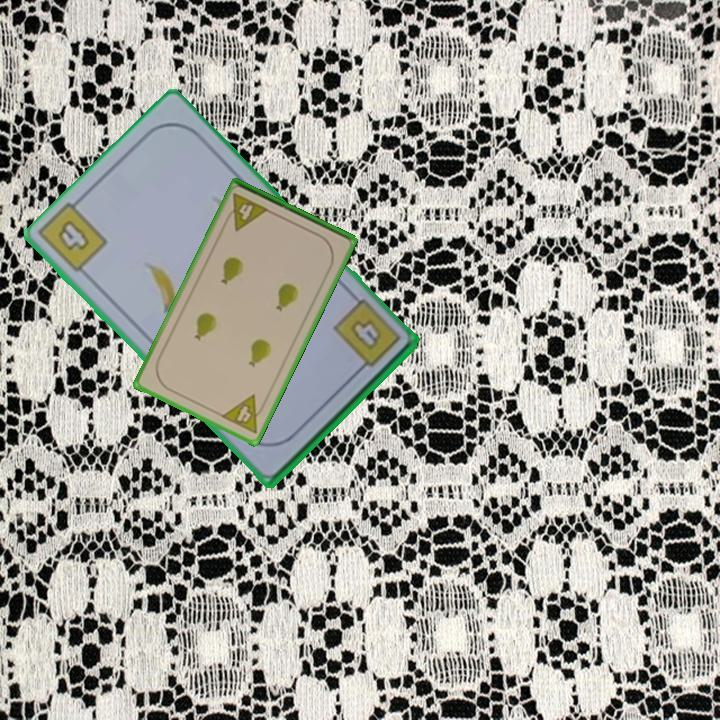4b: (329, 295, 404, 378), (53, 216, 92, 254)
4p: (218, 391, 270, 437), (220, 190, 272, 234)
